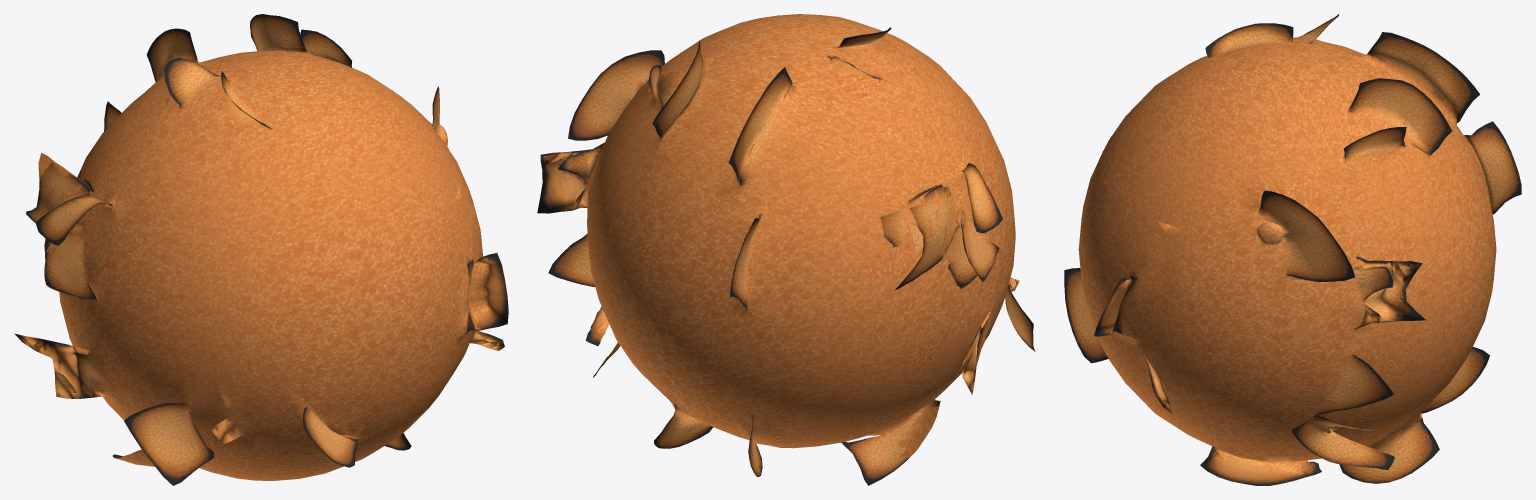
Rendered from solar-corona-mantle.glb.
3 renders of one model, left to right at view 1: azimuth 30°, elevation 25°; view 2: azimuth 150°, elevation 25°; view 3: azimuth 270°, elevation 25°, orthographic. The views are drawn at different scales.
Visible parts, largest first — view 1: Solar Corona Mantle; view 2: Solar Corona Mantle; view 3: Solar Corona Mantle.
Boxes of the visible parts, x1=… form: Solar Corona Mantle: x1=15, y1=14, x2=508, y2=485; Solar Corona Mantle: x1=537, y1=14, x2=1035, y2=485; Solar Corona Mantle: x1=1064, y1=14, x2=1521, y2=485.
Bounding box in the file's own units: 0.998 × 0.959 × 0.9941.
1 material, 1 textured.
